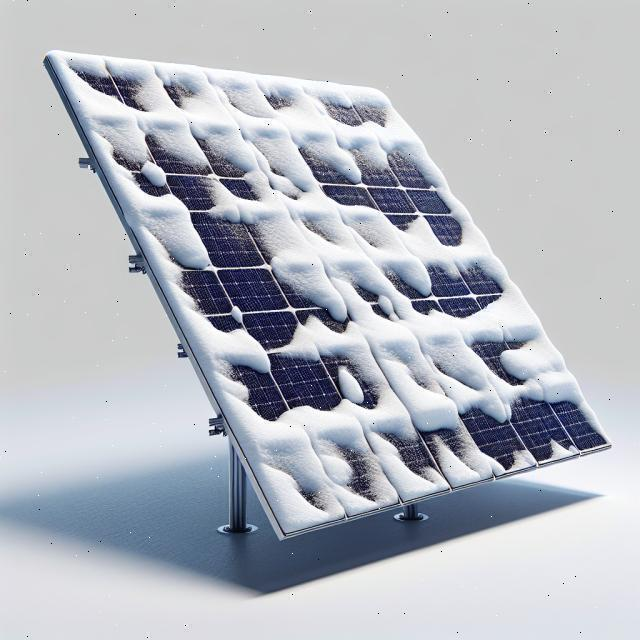Anomaly Solar Panel: (48, 52, 614, 533)
Snow: (130, 195, 449, 563), (30, 45, 504, 251), (239, 148, 508, 349), (192, 146, 357, 350), (73, 87, 217, 290), (333, 257, 458, 440), (416, 331, 613, 444), (367, 390, 537, 505), (403, 261, 544, 387), (139, 95, 211, 182), (139, 159, 171, 189), (550, 440, 580, 460)
